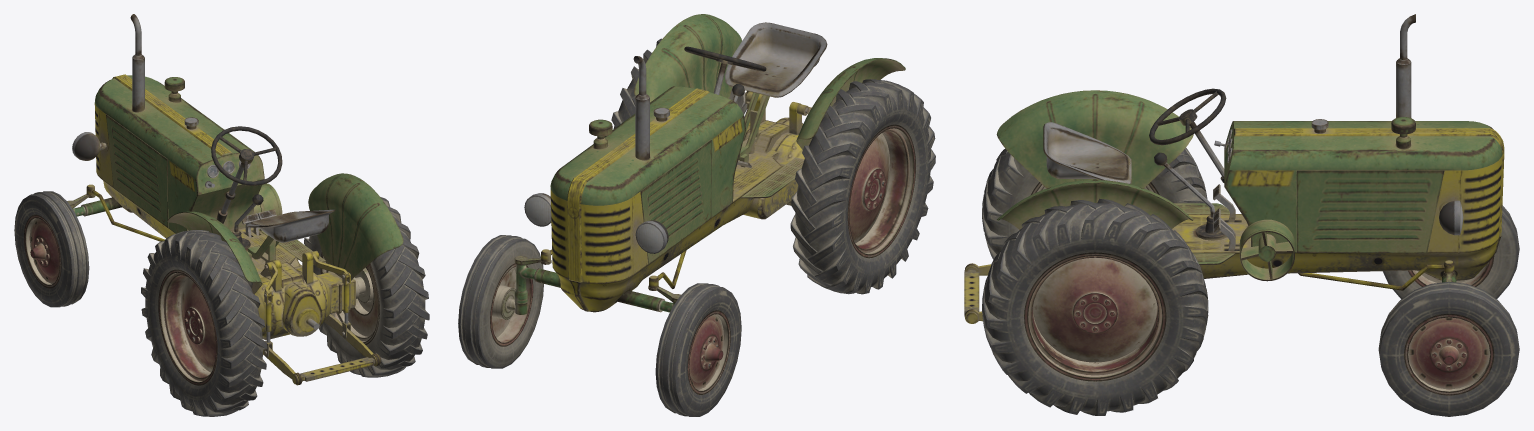
File: tractor.glb
3 views of the same model, side by side, from view 1: azimuth 30°, elevation 25°; view 2: azimuth 150°, elevation 25°; view 3: azimuth 270°, elevation 25° (orthographic). The views are drawn at different scales.
Parts seen in each view (by area): view 1: model; view 2: model; view 3: model.
Part boxes in pixels (left/top/right/bottom): model: left=14, top=14, right=429, bottom=416; model: left=458, top=14, right=935, bottom=416; model: left=964, top=14, right=1519, bottom=416.
Bounding box in the file's own units: 228 × 292 × 435.
2 materials, 2 textured.
